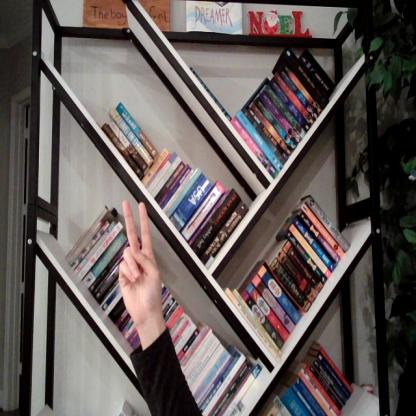two: (114, 198, 168, 327)
